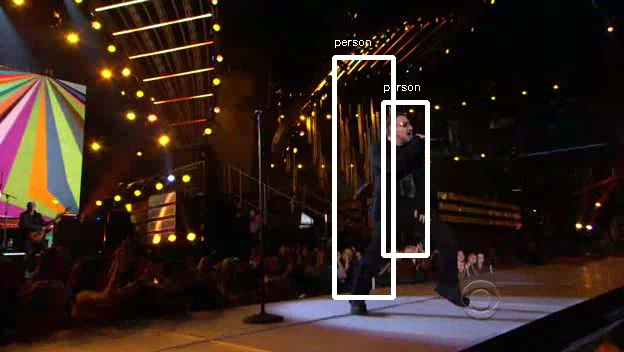person: (367, 113, 438, 242), (364, 113, 435, 242), (370, 113, 441, 242), (367, 110, 438, 239), (367, 116, 438, 245)
target_negative: (433, 61, 599, 263), (41, 136, 184, 277), (352, 113, 397, 284), (439, 217, 530, 296), (161, 304, 473, 314), (295, 55, 376, 64)
